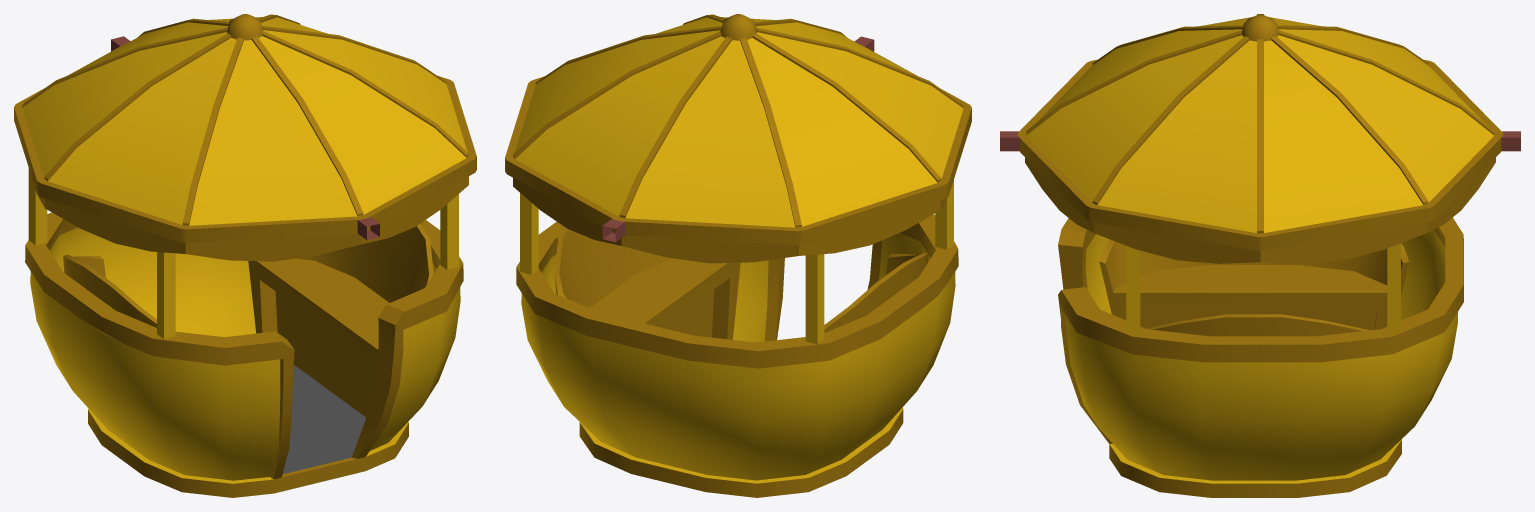
File: SM_Props_Park_02_Cabin_02.fbx
3 renders of one model, left to right at view 1: azimuth 30°, elevation 25°; view 2: azimuth 150°, elevation 25°; view 3: azimuth 270°, elevation 25°, orthographic.
Visible parts, largest first — view 1: SM_Props_Park_02_Cabin_02; view 2: SM_Props_Park_02_Cabin_02; view 3: SM_Props_Park_02_Cabin_02.
Boxes of the visible parts, x1,y1,x2,y2 form: SM_Props_Park_02_Cabin_02: (14,14,476,497); SM_Props_Park_02_Cabin_02: (505,14,971,497); SM_Props_Park_02_Cabin_02: (1000,14,1520,497).
Bounding box in the file's own units: 3.17 × 3.02 × 3.4.
